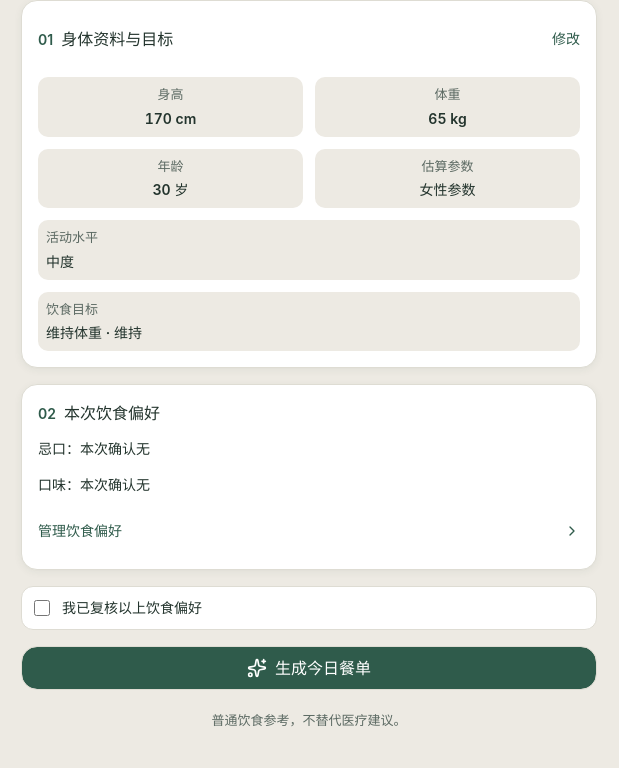
Test case: PlanPage › blocks a fourth adjustment with the exact limit actions and focuses a refusal without cards or bypass
Expected: the text "170 cm" is shown, [145,110,196,126]
Click the checkbox labelled "我已复核以上饮食偏好" at x=42, y=608, box [34,600,50,616]
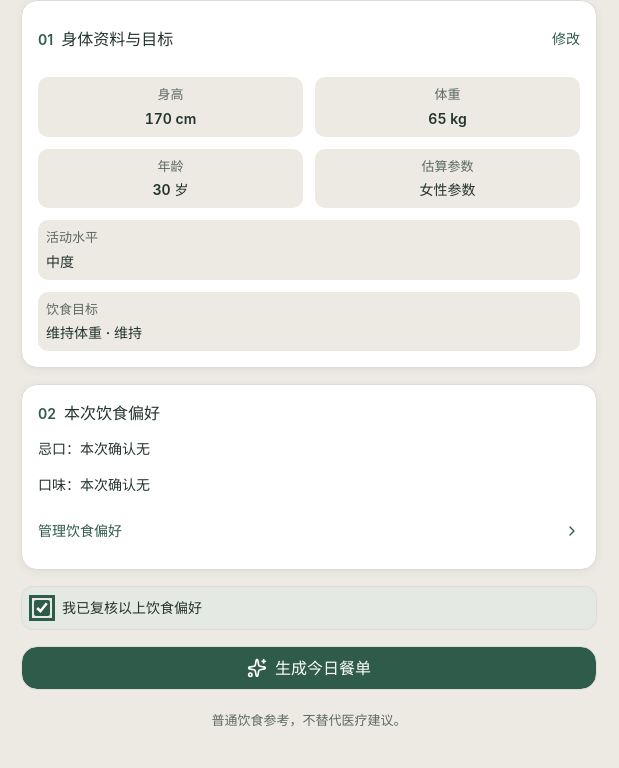
Click the button "生成今日餐单" at x=309, y=668, box [21,646,597,690]
(page scrolled)
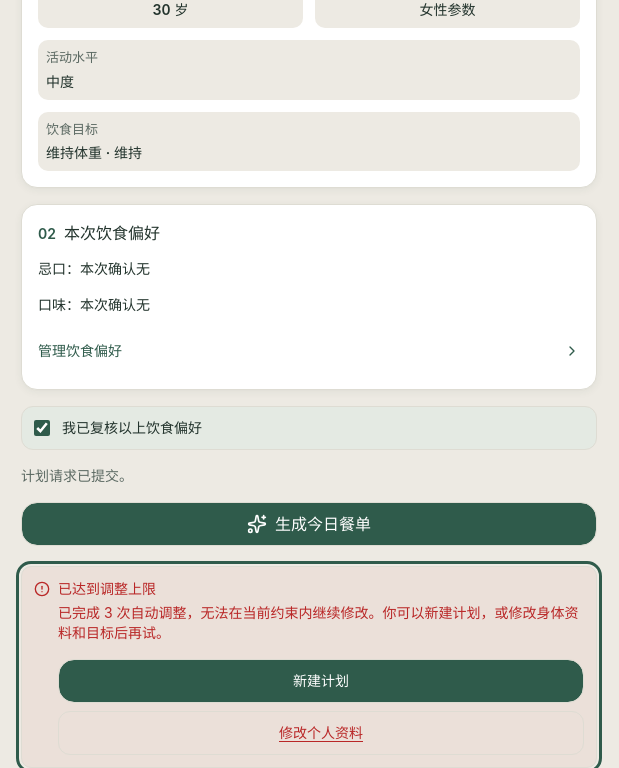
Now the text "已完成 3 次自动调整，无法在当前约束内继续修改。你可以新建计划，或修改身体资料和目标后再试。" is shown, box [58,603,584,643]
Now the button "新建计划" is shown, box [58,659,584,703]
